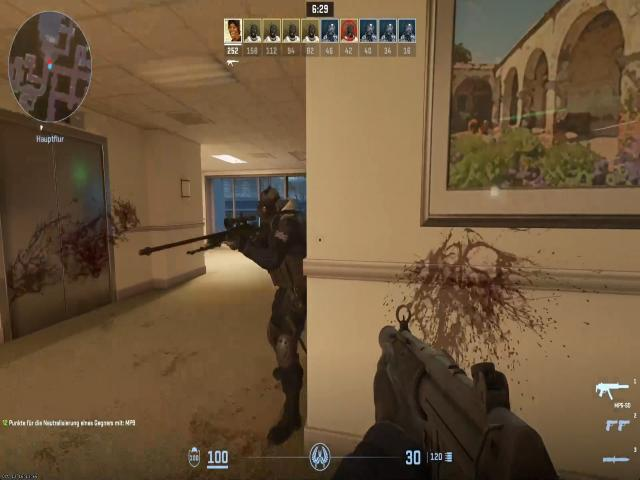CT: (256, 195, 306, 357)
CT-Head: (254, 184, 284, 239)
